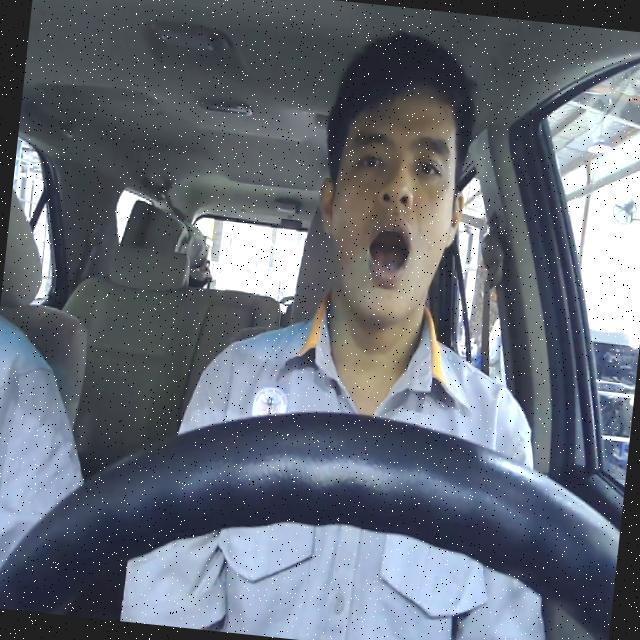yarning: (302, 78, 474, 338)
